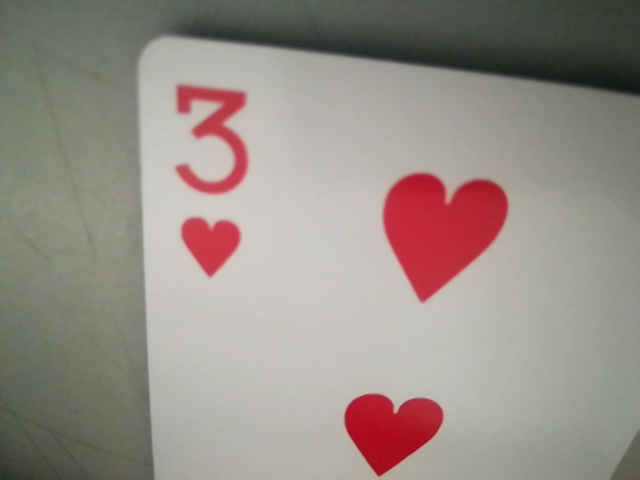hx 3: (162, 61, 254, 308)
